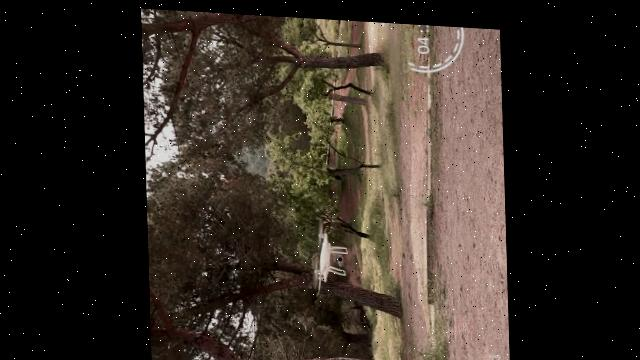drone: (308, 213, 347, 295)
